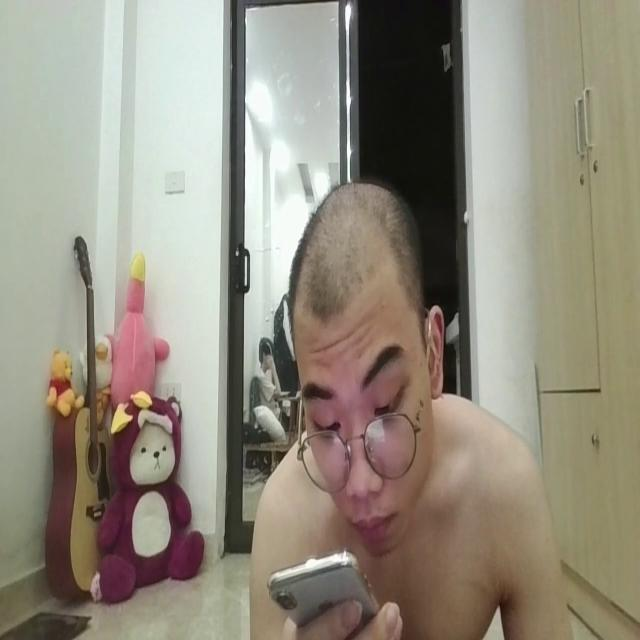student: (244, 179, 590, 640)
